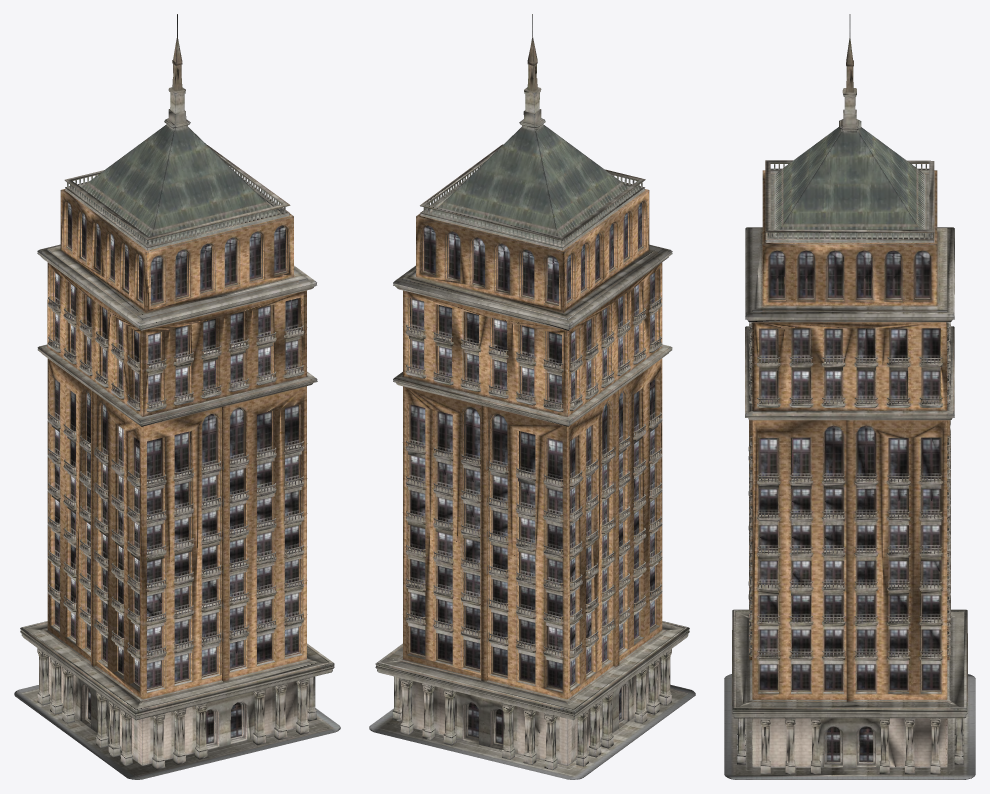
Rendered from bld22_13.glb.
The picture shows the model from 3 angles, left to right: view 1: azimuth 30°, elevation 25°; view 2: azimuth 150°, elevation 25°; view 3: azimuth 270°, elevation 25°; orthographic projection. The views are drawn at different scales.
Parts seen in each view (by area): view 1: bld22_13; view 2: bld22_13; view 3: bld22_13.
Part boxes in pixels (x1,y1,x2,y2): bld22_13: (14,14,340,779); bld22_13: (369,14,695,779); bld22_13: (724,14,975,779).
Size of the model in its own units: 47.38 by 148 by 47.34.
Materials: 1 (1 with a texture image).
